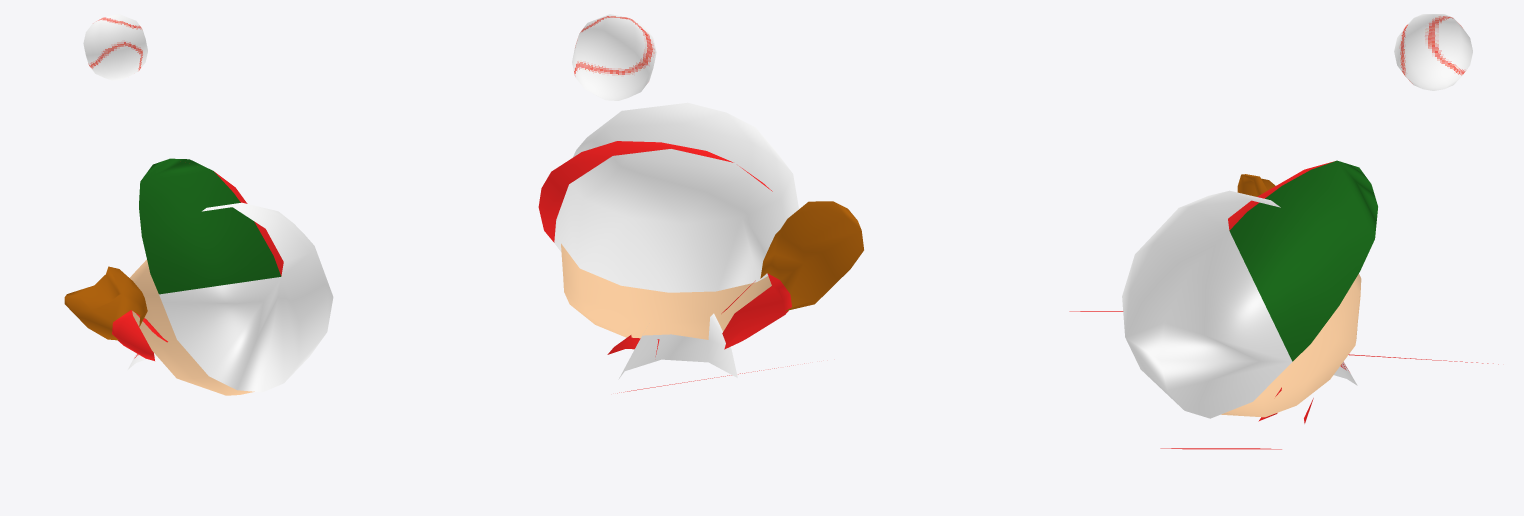
File: ps2_save-icons_jikkyoupowerfulproyakyuu7.glb
The picture shows the model from 3 angles, left to right: view 1: azimuth 30°, elevation 25°; view 2: azimuth 150°, elevation 25°; view 3: azimuth 270°, elevation 25°; orthographic projection. The views are drawn at different scales.
Parts seen in each view (by area): view 1: PAWA7_0.ico; view 2: PAWA7_0.ico; view 3: PAWA7_0.ico.
Part boxes in pixels (<box>): PAWA7_0.ico: <box>64,14,333,395</box>; PAWA7_0.ico: <box>538,14,863,393</box>; PAWA7_0.ico: <box>1069,14,1498,449</box>.
Size of the model in its own units: 4.5 by 4.3 by 4.5.
Materials: 1 (1 with a texture image).
